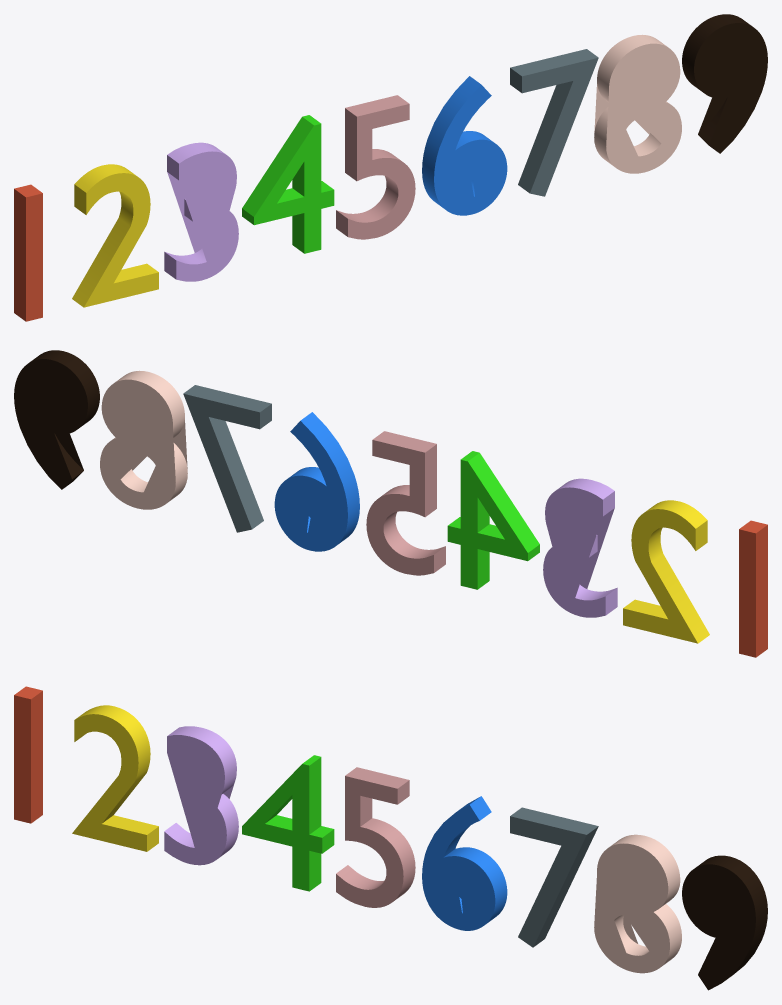
File: NumbersModel.fbx
3 renders of one model, top to bottom at view 1: azimuth 30°, elevation 25°; view 2: azimuth 150°, elevation 25°; view 3: azimuth 330°, elevation 25°, orthographic.
Parts seen in each view (by area): view 1: 8, 9, 3, 6, 2, 4, 5, 7, 1; view 2: 8, 9, 3, 6, 2, 4, 5, 7, 1; view 3: 8, 3, 9, 6, 5, 2, 4, 7, 1.
Boxes of the visible parts, x1,y1,x2,y2 form: 8: [594, 34, 681, 173]; 9: [682, 14, 767, 153]; 3: [164, 142, 238, 281]; 6: [422, 76, 507, 215]; 2: [72, 164, 158, 307]; 4: [242, 115, 334, 253]; 5: [336, 95, 415, 239]; 7: [510, 49, 598, 196]; 1: [14, 184, 42, 321]; 8: [100, 370, 187, 509]; 9: [14, 350, 99, 489]; 3: [543, 478, 617, 617]; 6: [274, 412, 359, 551]; 2: [623, 500, 709, 643]; 4: [447, 451, 539, 589]; 5: [366, 431, 445, 575]; 7: [183, 385, 271, 532]; 1: [739, 520, 767, 657]; 8: [594, 834, 681, 973]; 3: [164, 726, 238, 865]; 9: [682, 855, 767, 990]; 6: [422, 796, 507, 930]; 5: [336, 767, 415, 907]; 2: [72, 705, 158, 851]; 4: [242, 755, 334, 891]; 7: [510, 807, 598, 947]; 1: [14, 686, 42, 823].
Bounding box in the file's own units: 1067 × 175 × 29.87.
